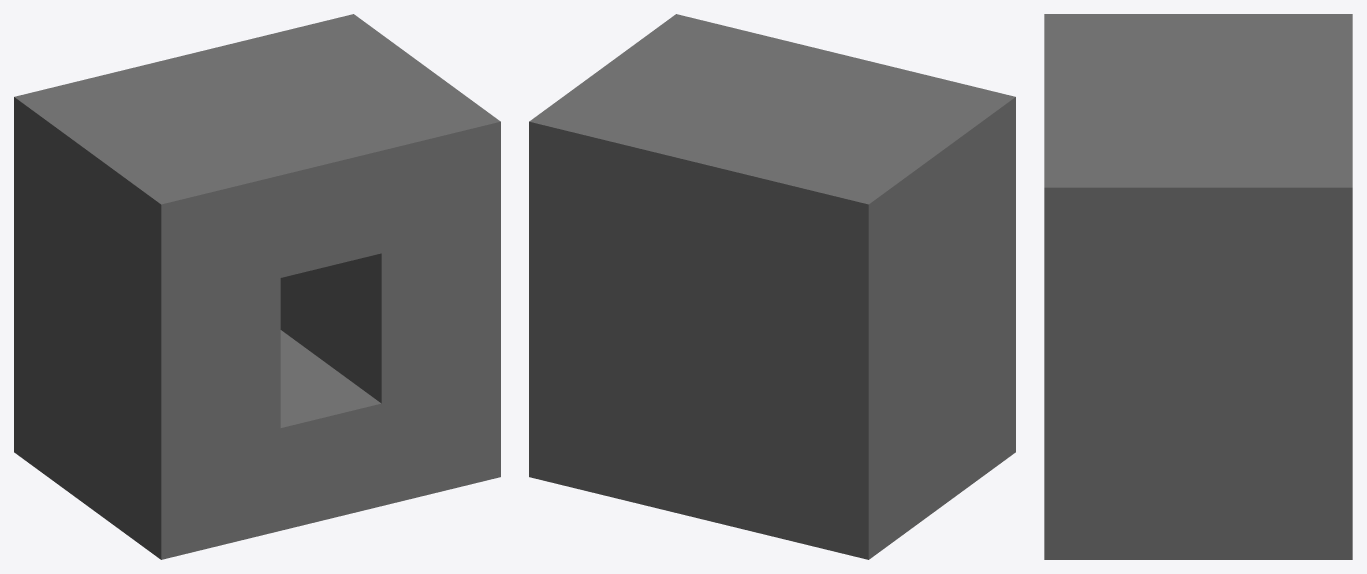
File: hole.obj
3 views of the same model, side by side, from view 1: azimuth 30°, elevation 25°; view 2: azimuth 150°, elevation 25°; view 3: azimuth 270°, elevation 25° (orthographic). The views are drawn at different scales.
Parts seen in each view (by area): view 1: hole; view 2: hole; view 3: hole.
Part boxes in pixels (box(x1,y1,x2,y2)): hole: box(14, 14, 500, 559); hole: box(529, 14, 1015, 559); hole: box(1044, 14, 1352, 559).
Bounding box in the file's own units: 0.08 × 0.08 × 0.06.
Materials: 1 (1 with a texture image).
